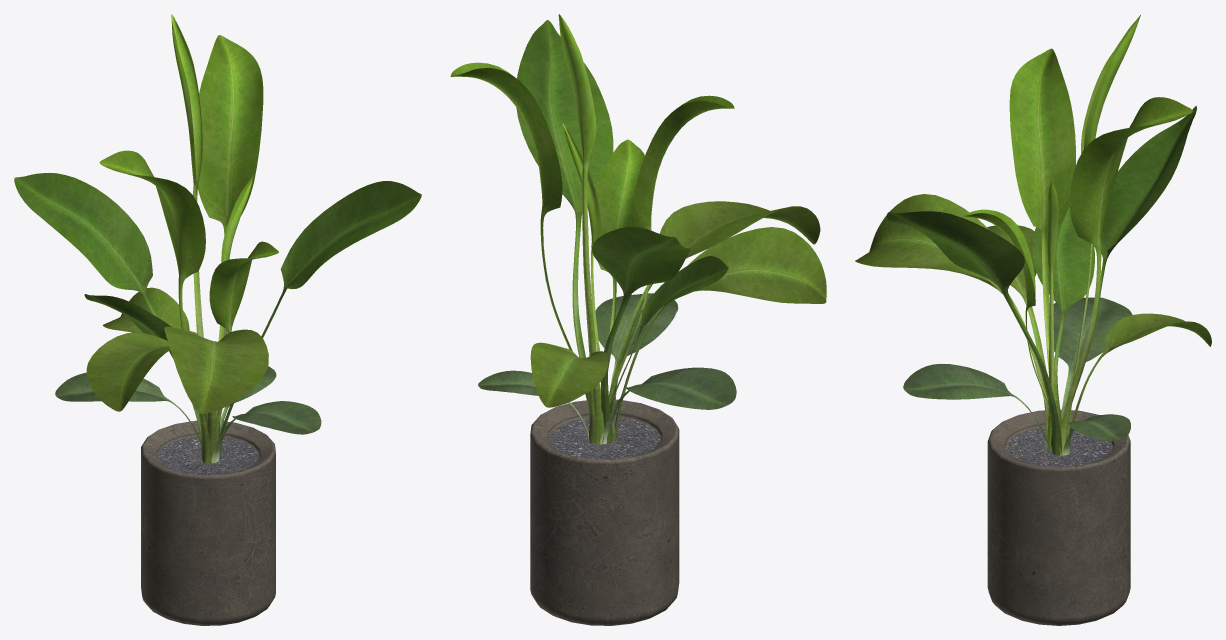
Rendered from rhyzome_plant.glb.
3 renders of one model, left to right at view 1: azimuth 30°, elevation 25°; view 2: azimuth 150°, elevation 25°; view 3: azimuth 270°, elevation 25°, orthographic. The views are drawn at different scales.
Parts seen in each view (by area): view 1: plant, concrete_pot; view 2: plant, concrete_pot; view 3: plant, concrete_pot.
Part boxes in pixels (x1,y1,x2,y2): plant: (14, 14, 421, 463); concrete_pot: (141, 420, 275, 625); plant: (450, 14, 826, 444); concrete_pot: (530, 399, 679, 625); plant: (855, 15, 1211, 455); concrete_pot: (987, 409, 1130, 625).
Size of the model in its own units: 0.9756 by 1.81 by 0.9982.
Materials: 2 (2 with a texture image).
